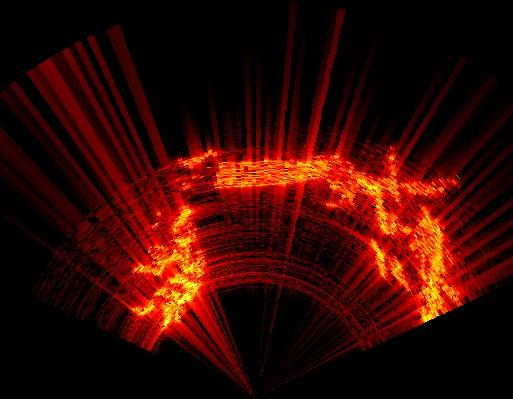shipwreck: (180, 150, 460, 321), (214, 153, 460, 321), (130, 206, 205, 327), (131, 206, 205, 328)
